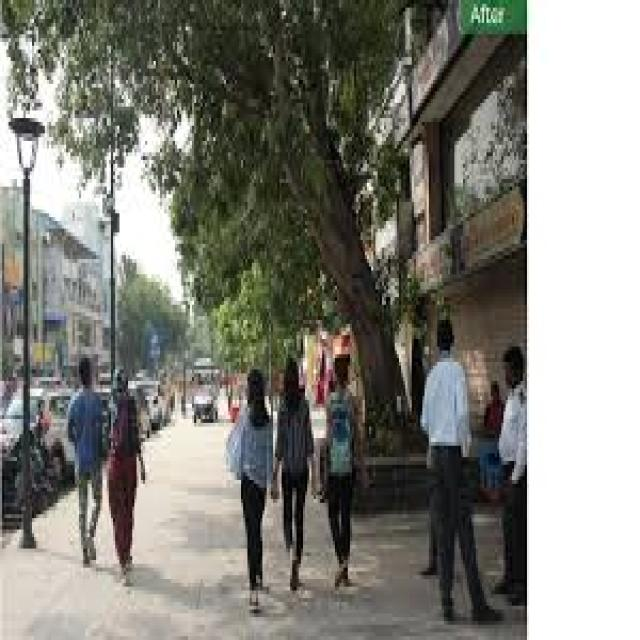electric pole ahead at: (8, 108, 48, 552)
person ahead at: (419, 310, 508, 634)
